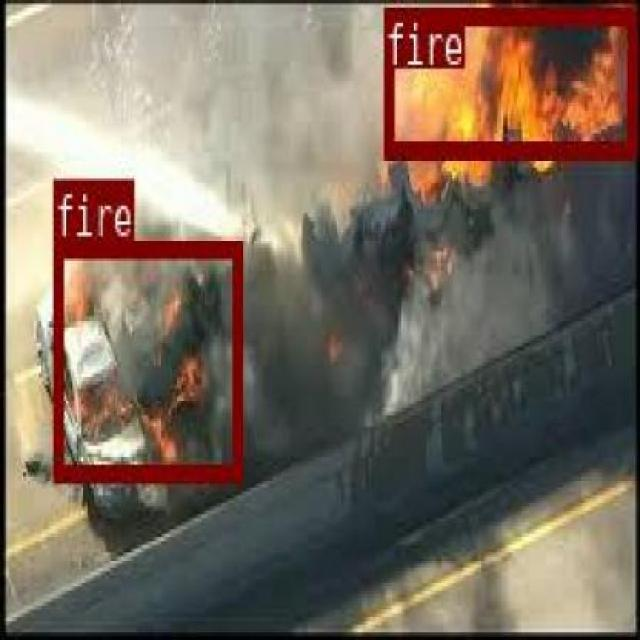Fire: (52, 238, 240, 479), (383, 7, 634, 156)
